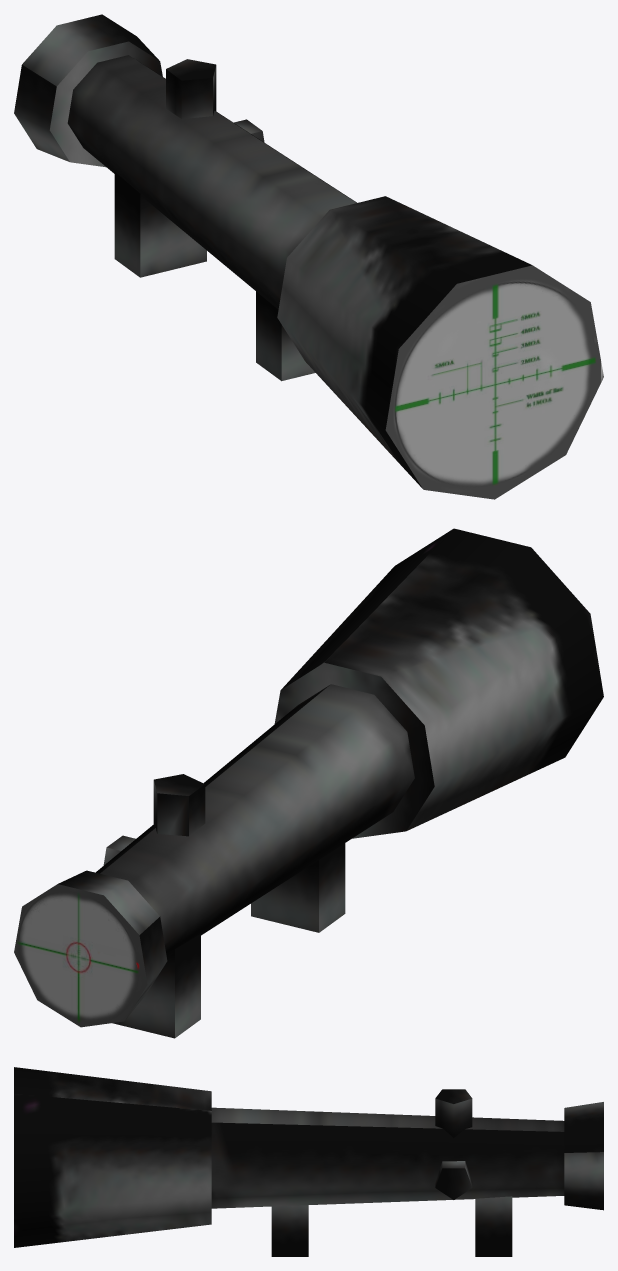
The model's file is sniperscope.obj.
The picture shows the model from 3 angles, top to bottom: view 1: azimuth 30°, elevation 25°; view 2: azimuth 150°, elevation 25°; view 3: azimuth 270°, elevation 25°; orthographic projection. The views are drawn at different scales.
Parts seen in each view (by area): view 1: Cylinder01; view 2: Cylinder01; view 3: Cylinder01.
Part boxes in pixels (x1,y1,x2,y2): Cylinder01: (14, 14, 603, 499); Cylinder01: (14, 528, 603, 1038); Cylinder01: (14, 1067, 603, 1256).
Size of the model in its own units: 20.09 by 20.15 by 65.25.
